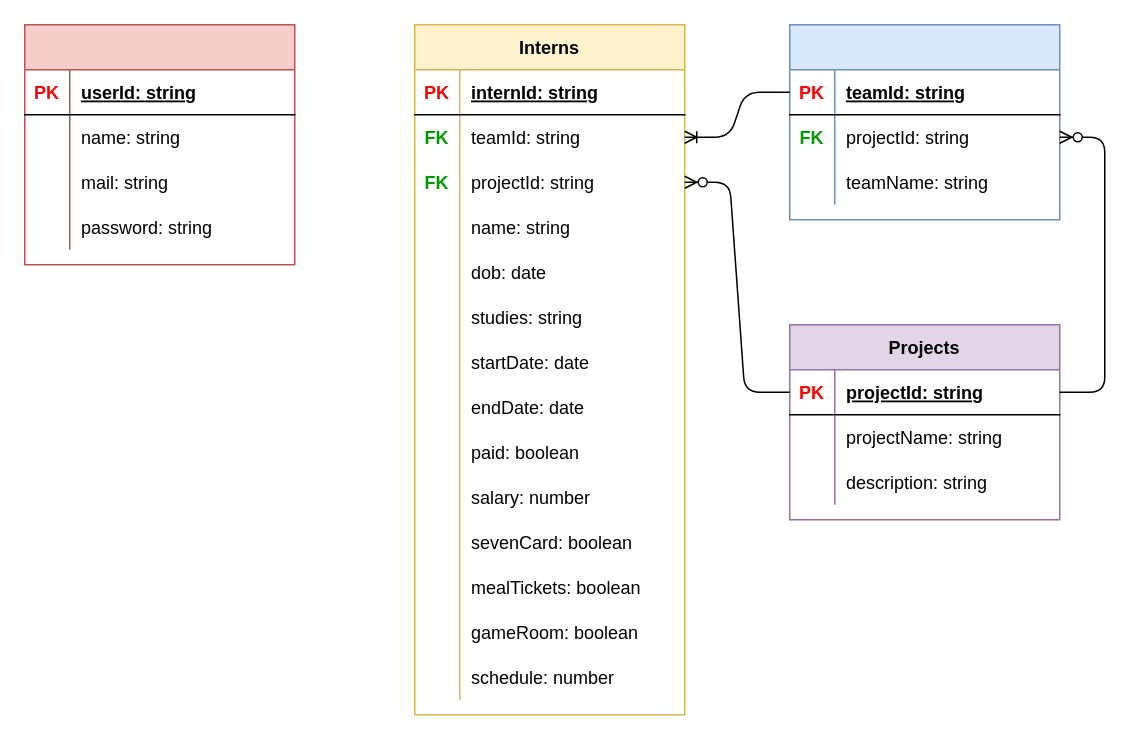
This 1130x740 diagram has some shape labels left out. The box of each missing label's shape, as (x1, y1, x2, y2) in pixels:
Teams: (788, 23, 1060, 220)
Users: (23, 23, 295, 265)
